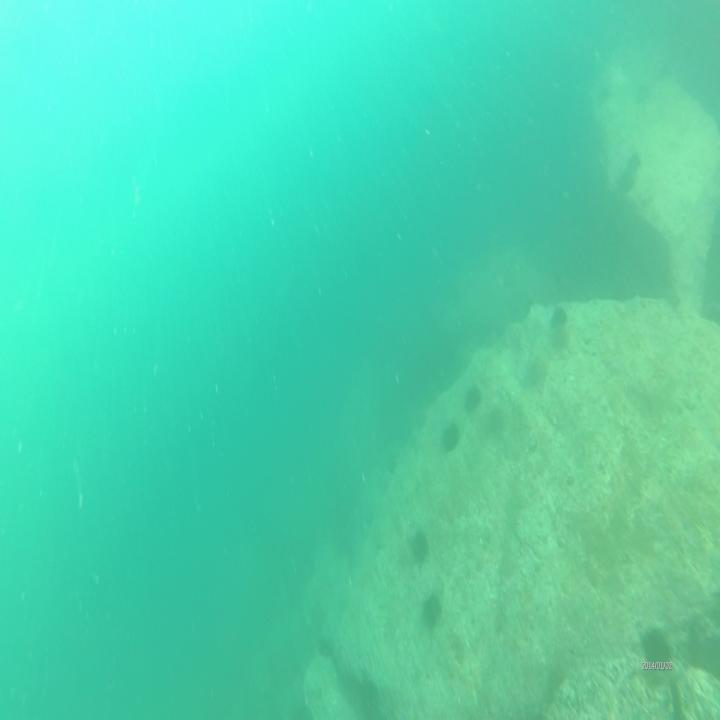echinus: (642, 629, 678, 670), (408, 523, 428, 560), (441, 420, 460, 457), (419, 594, 440, 625), (524, 354, 541, 390), (550, 300, 569, 326), (462, 380, 480, 406), (618, 167, 636, 188)
